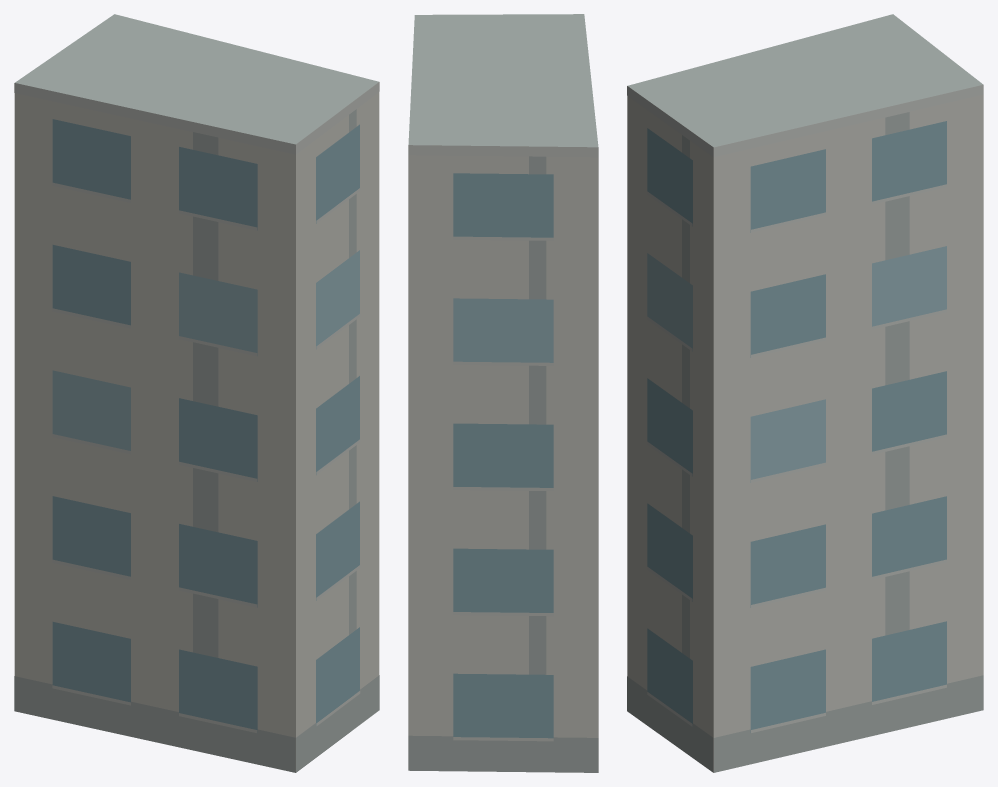
File: survey-upis-33011832.glb
3 views of the same model, side by side, from view 1: azimuth 30°, elevation 25°; view 2: azimuth 150°, elevation 25°; view 3: azimuth 270°, elevation 25° (orthographic).
Visible parts, largest first — view 1: survey-upis-33011832.tmp; view 2: survey-upis-33011832.tmp; view 3: survey-upis-33011832.tmp.
Part boxes in pixels (left/top/right/bottom): survey-upis-33011832.tmp: left=14, top=14, right=379, bottom=772; survey-upis-33011832.tmp: left=408, top=14, right=598, bottom=772; survey-upis-33011832.tmp: left=627, top=14, right=983, bottom=772.
Size of the model in its own units: 6.99 by 15.25 by 7.88.
